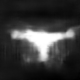plane: (9, 26, 78, 66)
